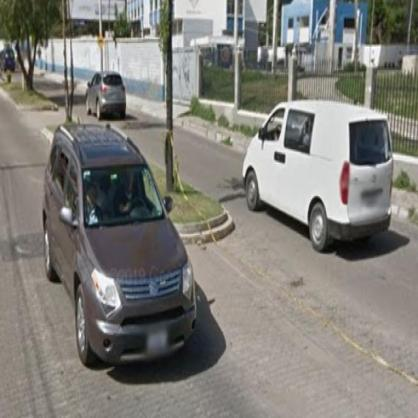car: (45, 124, 198, 372), (239, 98, 394, 256), (86, 69, 131, 122), (3, 49, 16, 76)
